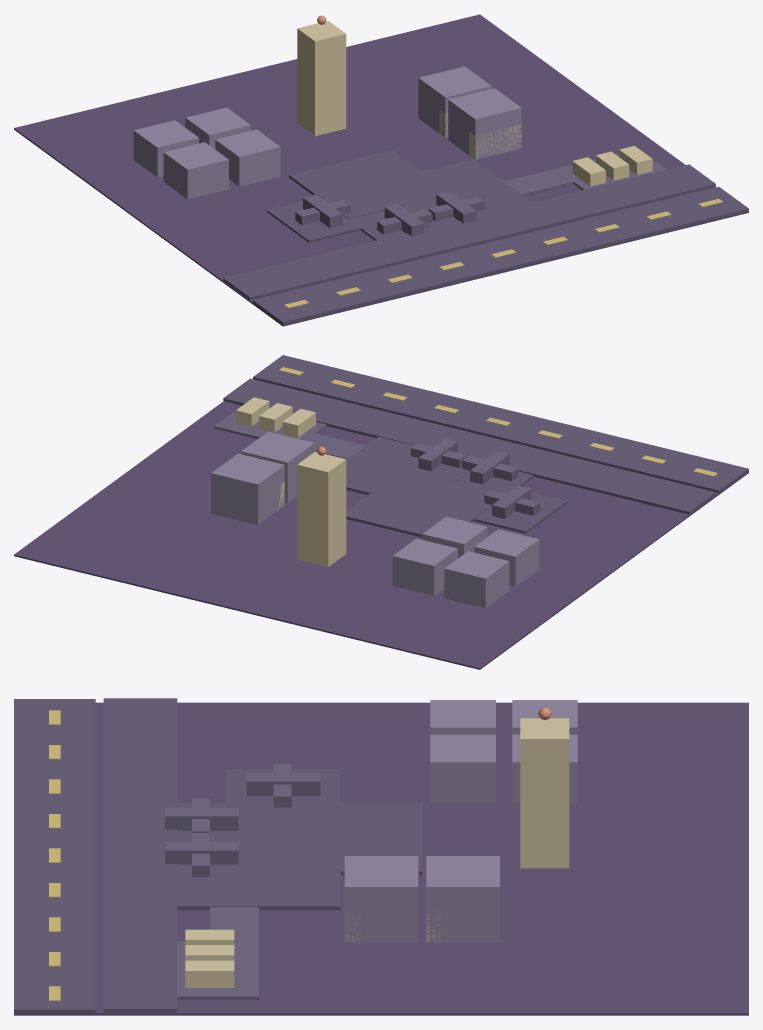
The model's file is stage_15.glb.
3 views of the same model, one above another, from view 1: azimuth 30°, elevation 25°; view 2: azimuth 150°, elevation 25°; view 3: azimuth 270°, elevation 25° (orthographic). The views are drawn at different scales.
Visible parts, largest first — view 1: geometry_0; view 2: geometry_0; view 3: geometry_0.
Part boxes in pixels (box(x1,y1,x2,y2)): geometry_0: box(14, 14, 748, 326); geometry_0: box(14, 355, 748, 669); geometry_0: box(14, 698, 748, 1015).
Bounding box in the file's own units: 9 × 2.06 × 9.
